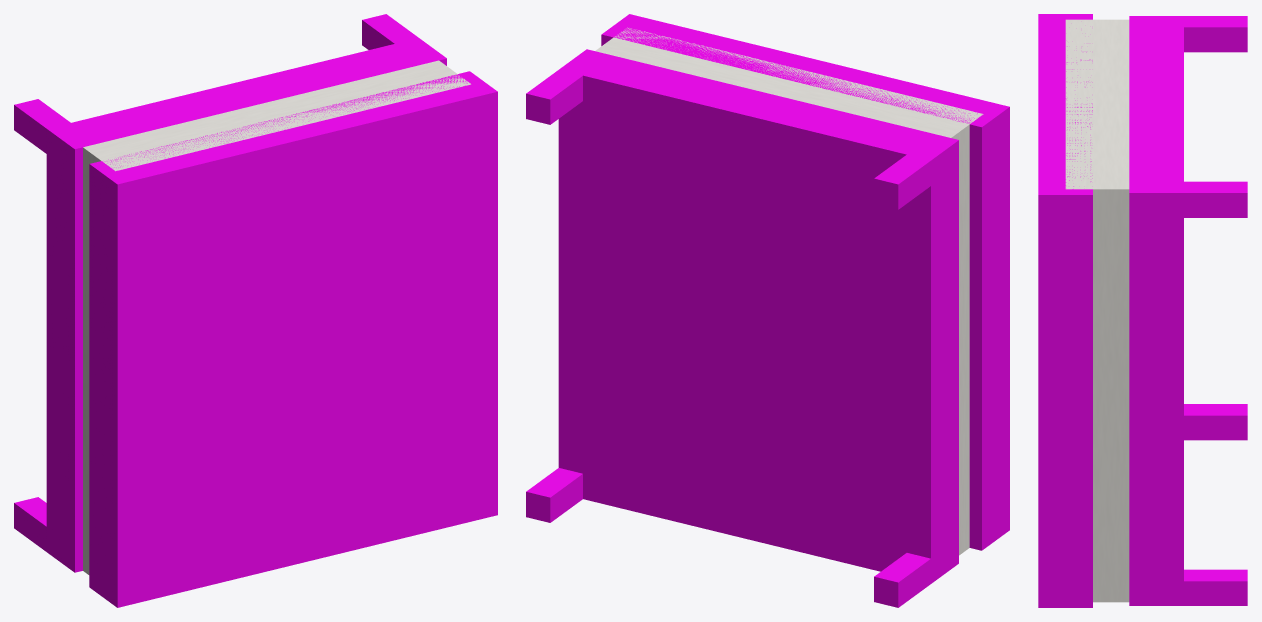
File: bed.obj
3 renders of one model, left to right at view 1: azimuth 30°, elevation 25°; view 2: azimuth 150°, elevation 25°; view 3: azimuth 270°, elevation 25°, orthographic. The views are drawn at different scales.
Size of the model in its own units: 0.94 by 1 by 0.46.
Materials: 1 (1 with a texture image).
